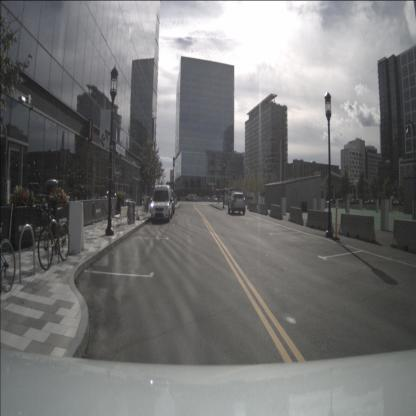barrier: (338, 214, 376, 242), (390, 219, 416, 256), (306, 209, 333, 232), (289, 208, 304, 225), (269, 205, 283, 220), (257, 204, 269, 216), (248, 202, 258, 212)
cone: (333, 207, 339, 240)
